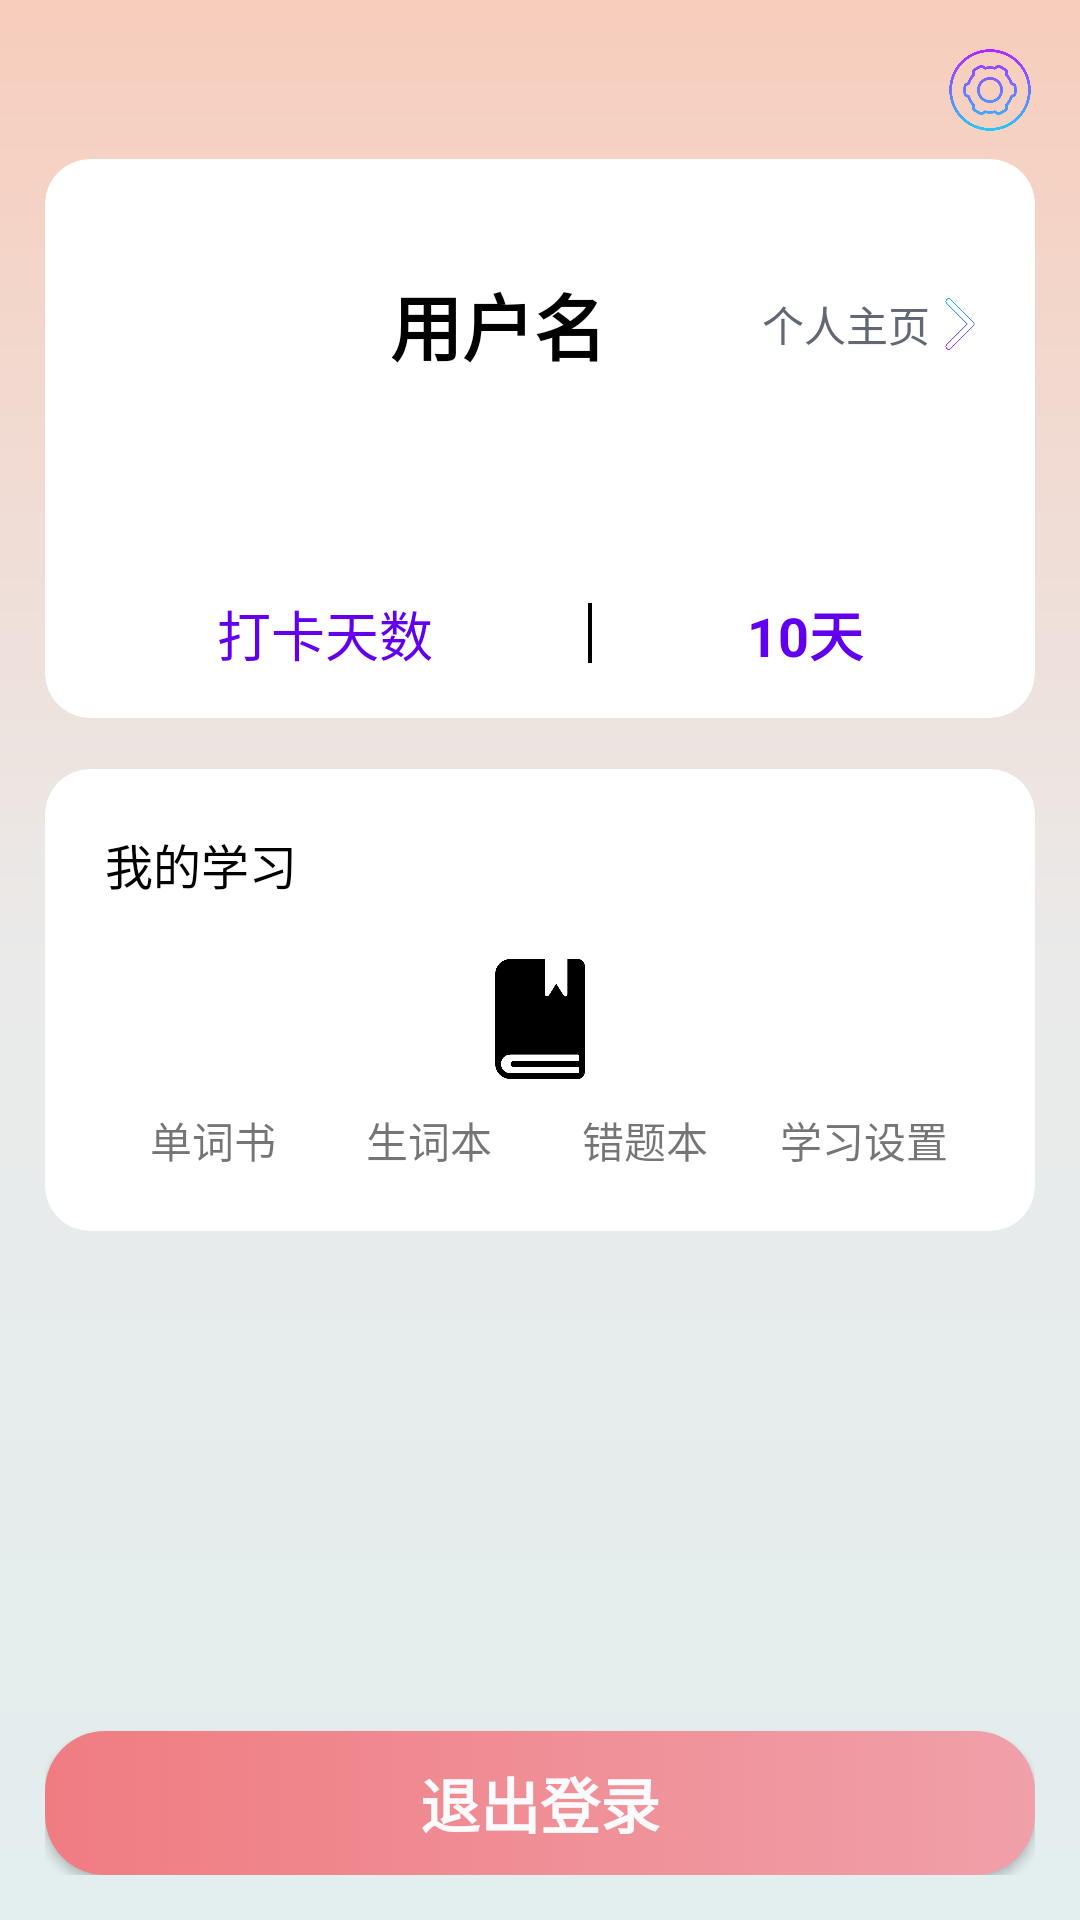

Point at icon controls on the screen. Image size 1080 x 1920, points as point (x, y).
book: point (540, 1019)
next fasion: point (960, 324)
set: point (990, 90)
